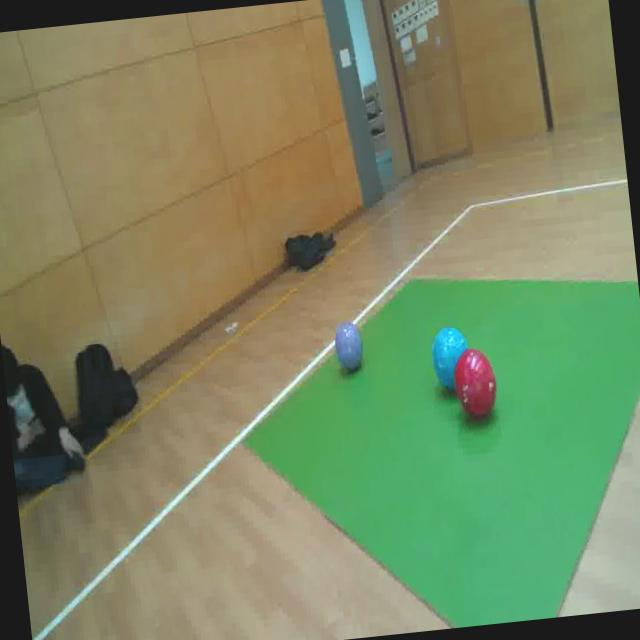blue_ball: (430, 326, 470, 387)
purple_ball: (334, 322, 364, 371)
red_ball: (450, 346, 500, 422)
